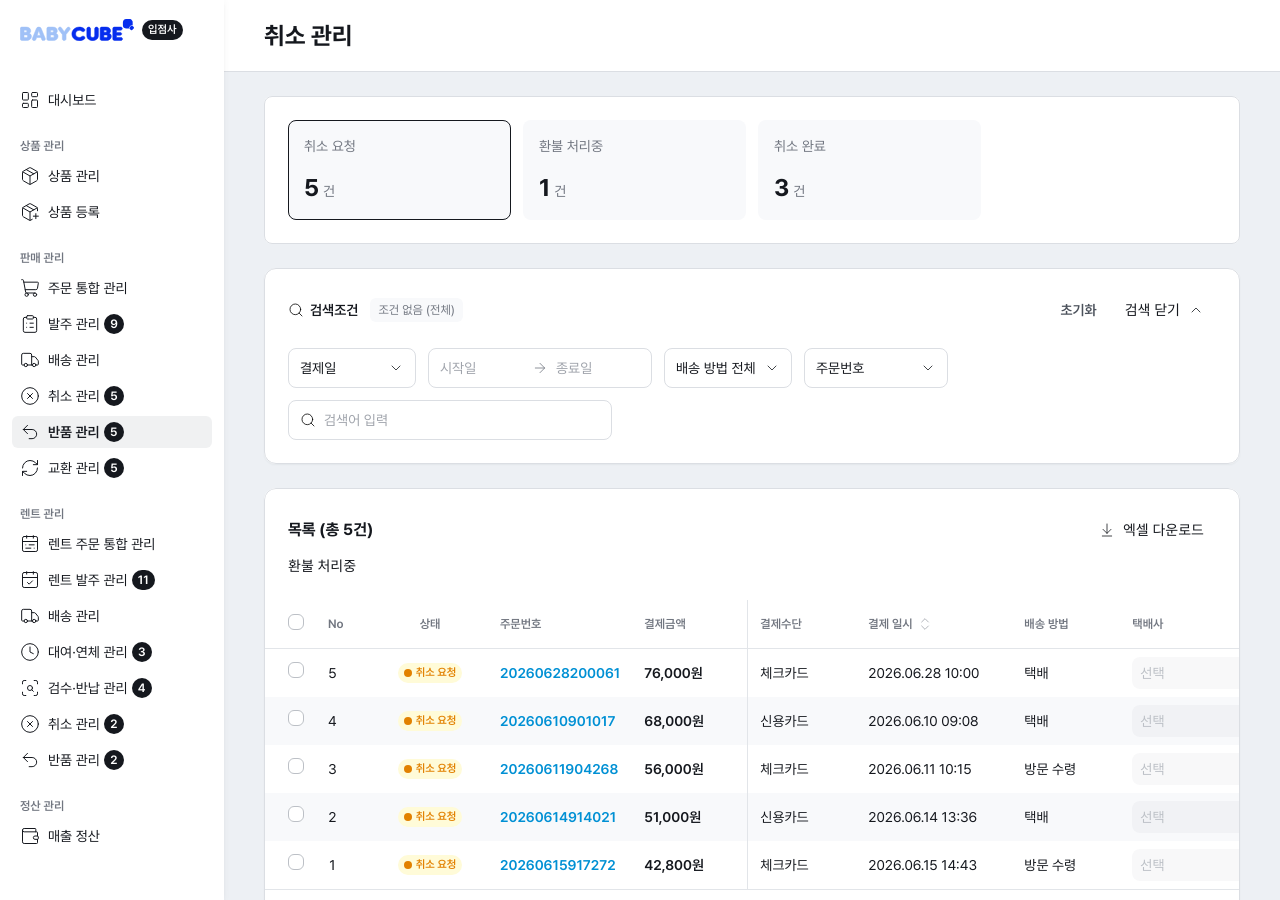
Test: SaleCancelPage — 취소 관리 › [환불 처리중] 1건 → 「환불 처리」 창에 그 건의 환불 미리보기 → 원본 알림
This screenshot has width=1280, height=900.
Click the checkbox named "20260628200061 UV 젖병소독기 선택": (296, 670) 288,662 -> 304,678
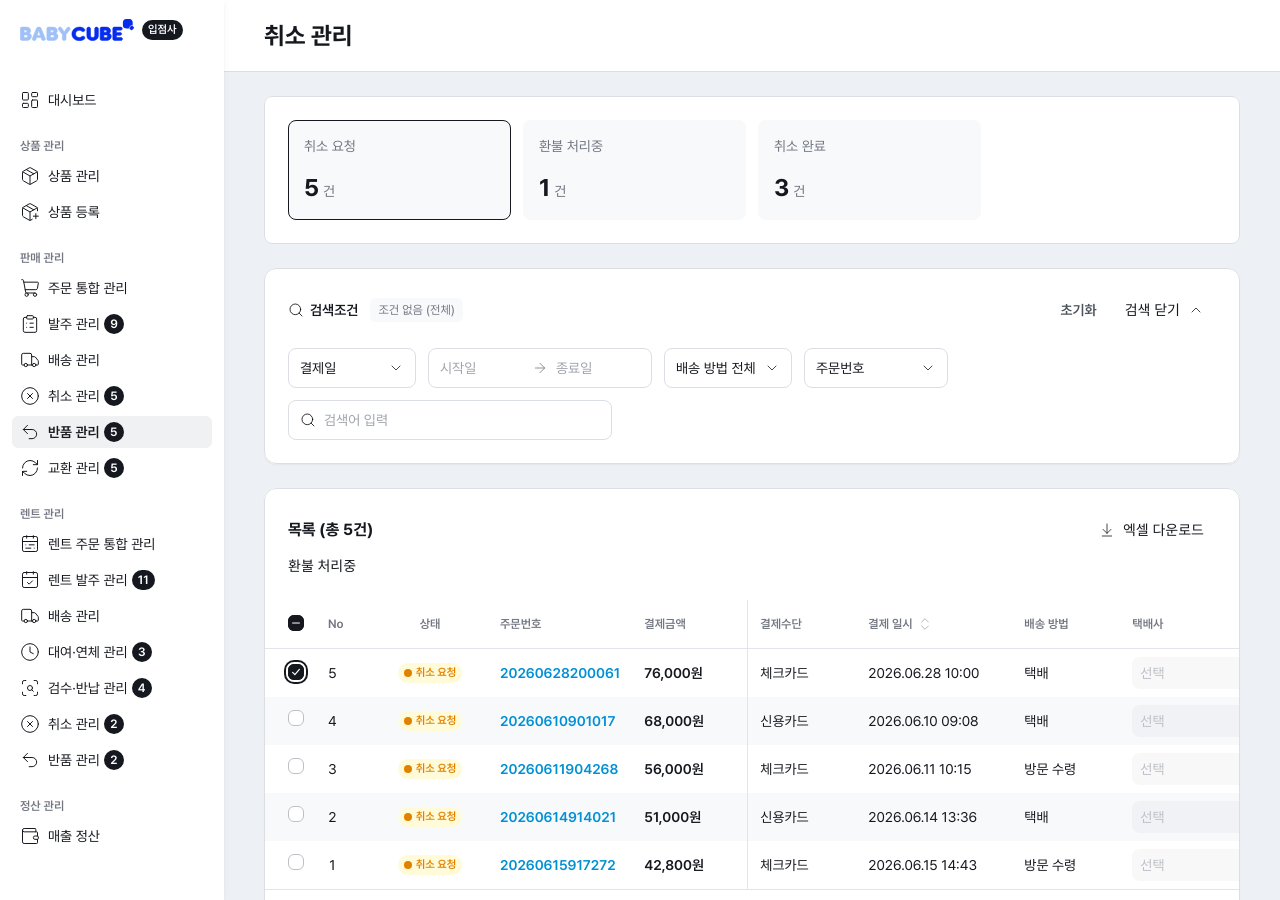
Click the button "환불 처리중": (322, 566) 288,556 -> 356,576
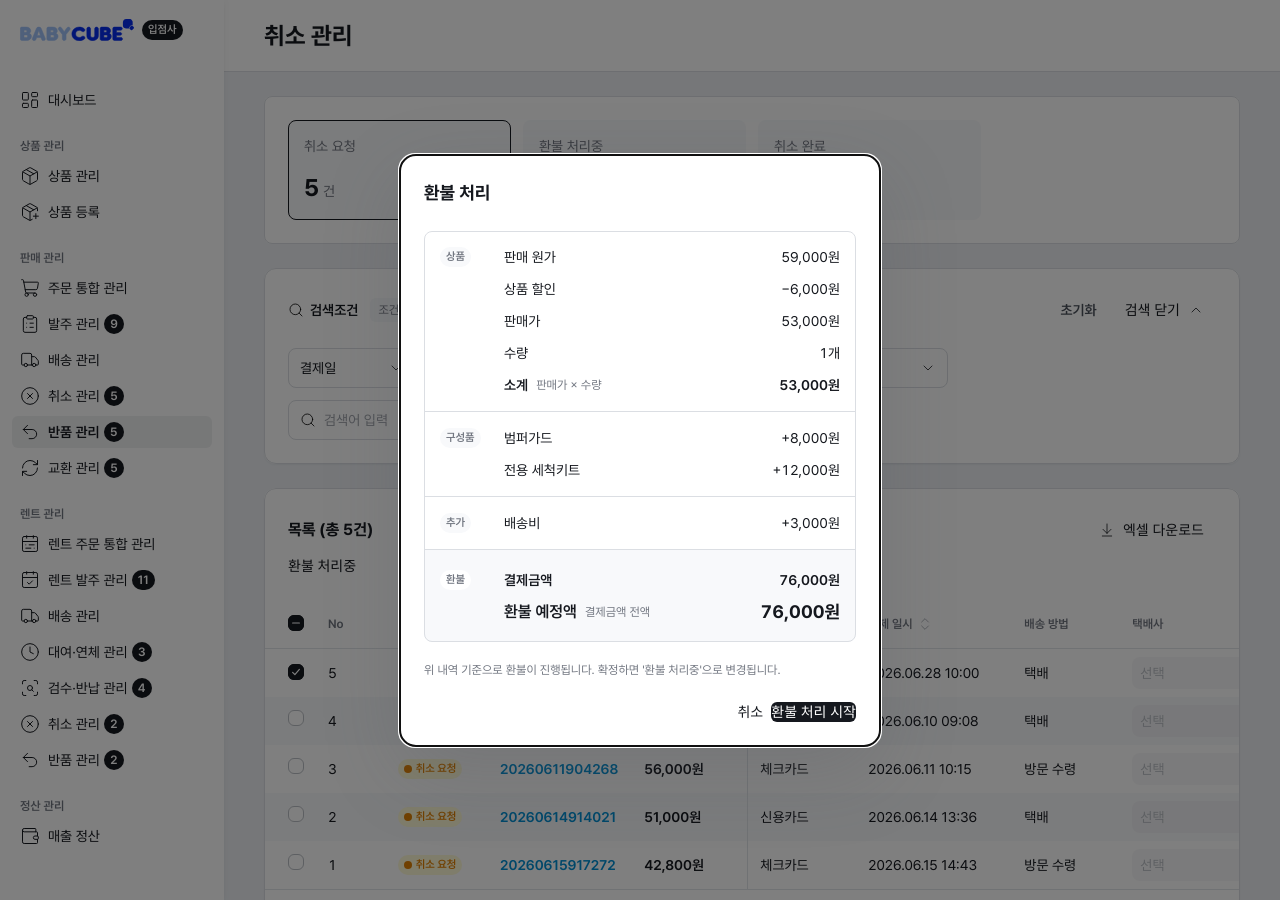
Result: the text "환불 예정액" is shown at 504,600 -> 577,624
Result: the text "결제금액 전액" is shown at 585,604 -> 650,620
Click the button "환불 처리 시작": (814, 712) 771,702 -> 856,722
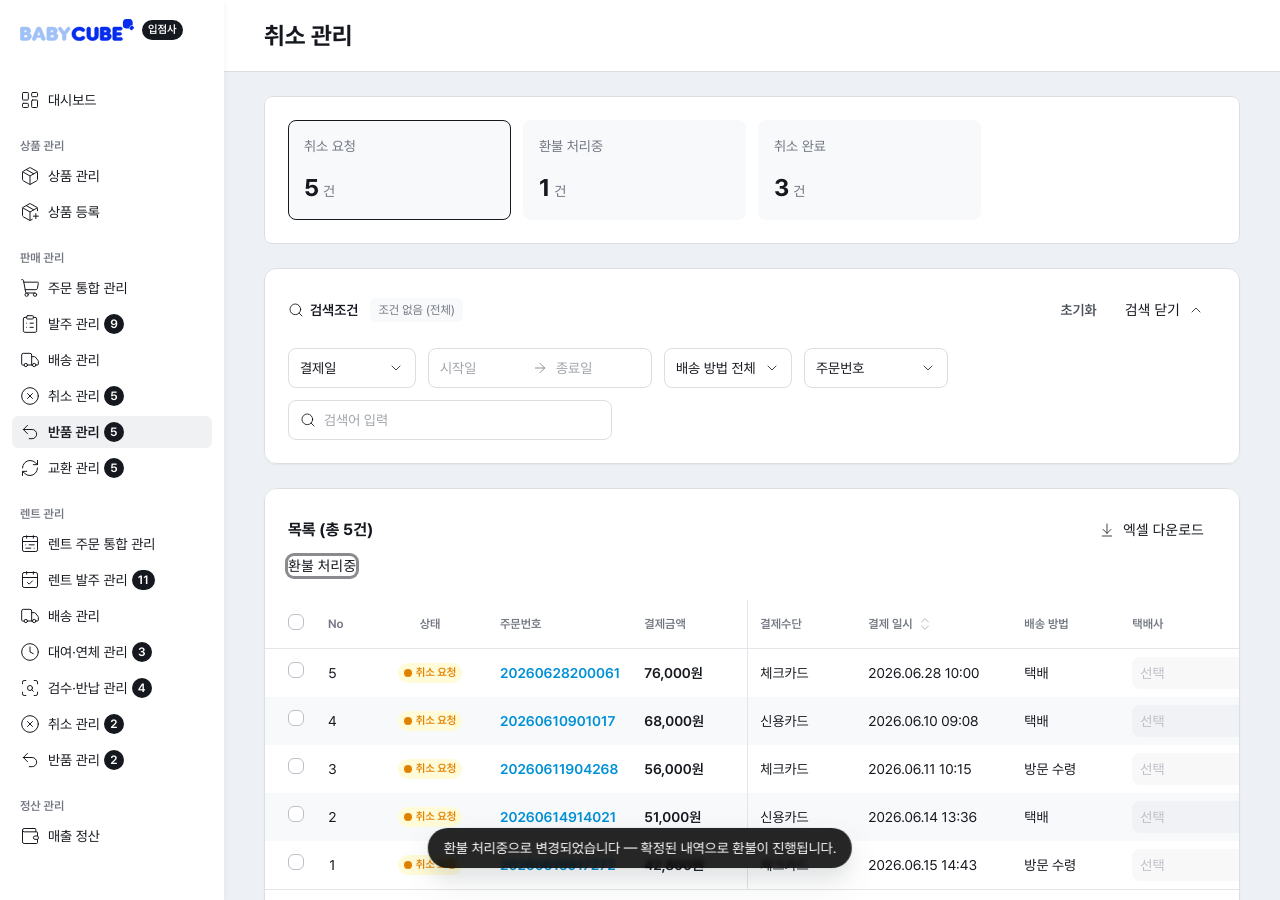
Result: the text "환불 처리중으로 변경되었습니다 — 확정된 내역으로 환불이 진행됩니다." is shown at 428,828 -> 852,868
